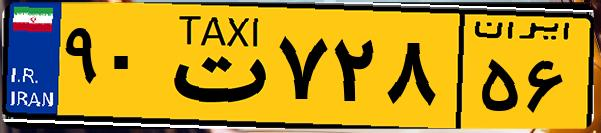0: (110, 28, 158, 98)
2: (330, 28, 385, 110)
5: (475, 38, 525, 113)
6: (525, 38, 570, 115)
7: (270, 28, 330, 110)
8: (385, 28, 445, 110)
9: (57, 26, 110, 100)
ت: (158, 12, 270, 120)
